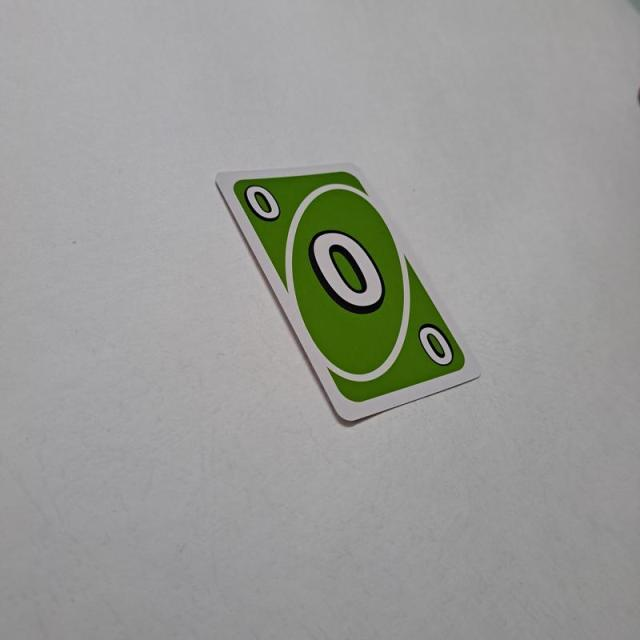Green_Card: (234, 168, 469, 408)
Number_0: (243, 180, 282, 222)
